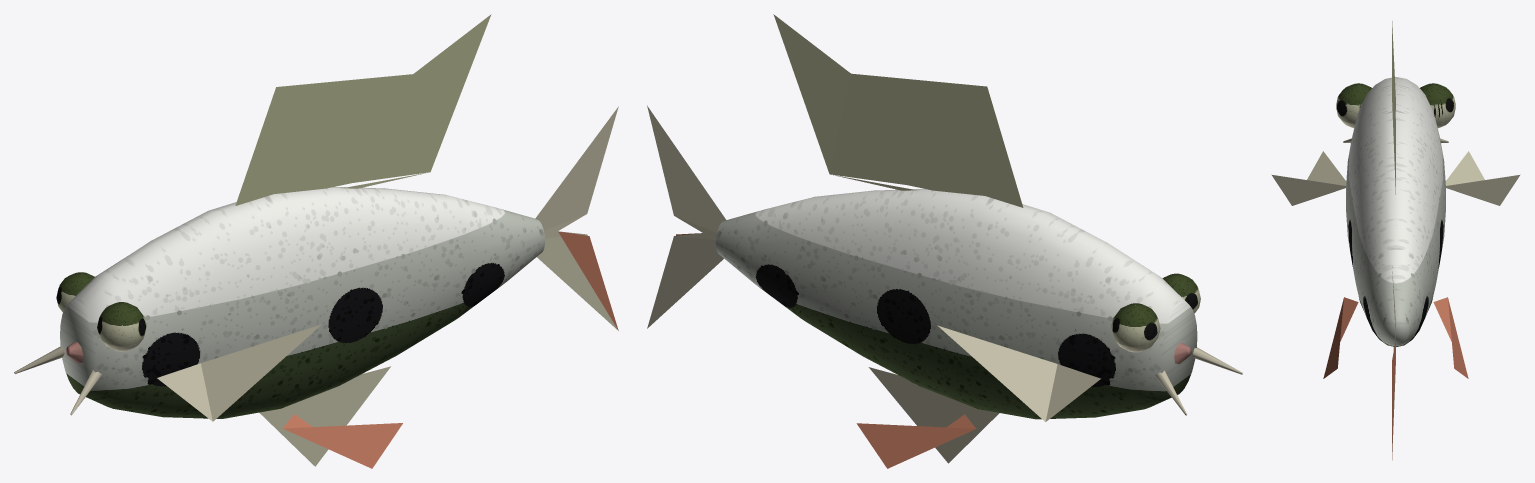
The model's file is arulius-barb.glb.
The picture shows the model from 3 angles, left to right: view 1: azimuth 30°, elevation 25°; view 2: azimuth 150°, elevation 25°; view 3: azimuth 270°, elevation 25°; orthographic projection. The views are drawn at different scales.
Parts seen in each view (by area): view 1: arulius_barb; view 2: arulius_barb; view 3: arulius_barb.
Part boxes in pixels (box(x1,y1,x2,y2)): arulius_barb: box(14, 14, 618, 468); arulius_barb: box(647, 14, 1242, 468); arulius_barb: box(1271, 21, 1520, 460).
Bounding box in the file's own units: 2.93 × 2 × 1.2.
Materials: 1 (1 with a texture image).
